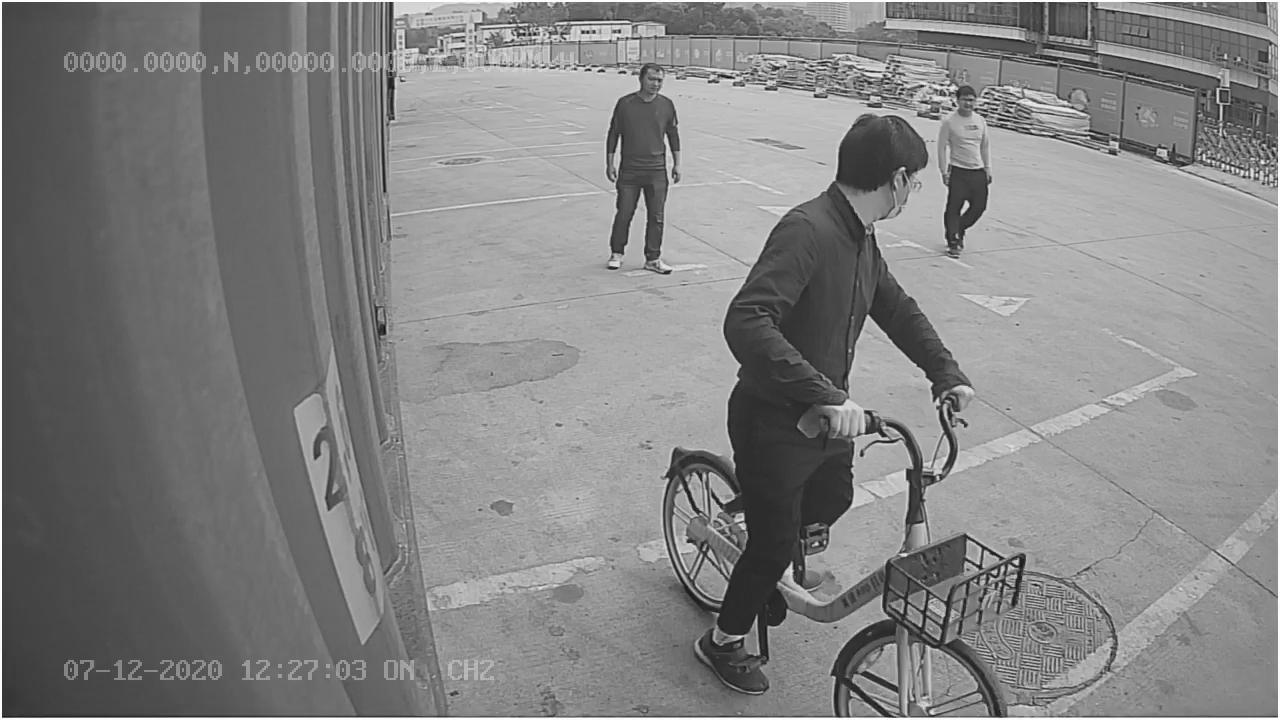person: (599, 60, 686, 278)
